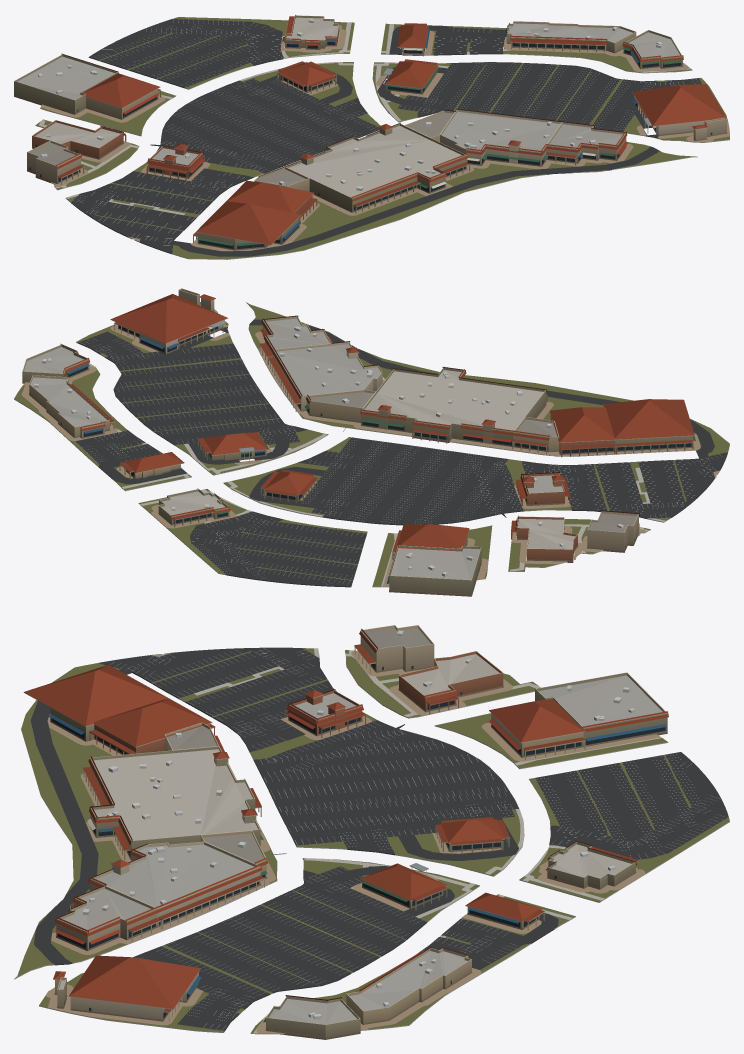
File: 4s_commons.glb
The picture shows the model from 3 angles, top to bottom: view 1: azimuth 30°, elevation 25°; view 2: azimuth 150°, elevation 25°; view 3: azimuth 270°, elevation 25°; orthographic projection. The views are drawn at different scales.
Visible parts, largest first — view 1: 4s_commons_ground, 4s_commons_buildings; view 2: 4s_commons_ground, 4s_commons_buildings; view 3: 4s_commons_ground, 4s_commons_buildings.
Part boxes in pixels (x1,y1,x2,y2): 4s_commons_ground: (35,17,729,259); 4s_commons_buildings: (14,15,727,250); 4s_commons_ground: (14,302,729,587); 4s_commons_buildings: (22,288,695,596); 4s_commons_ground: (14,647,729,1034); 4s_commons_buildings: (23,625,668,1039).
Size of the model in its own units: 386 by 19.94 by 300.
